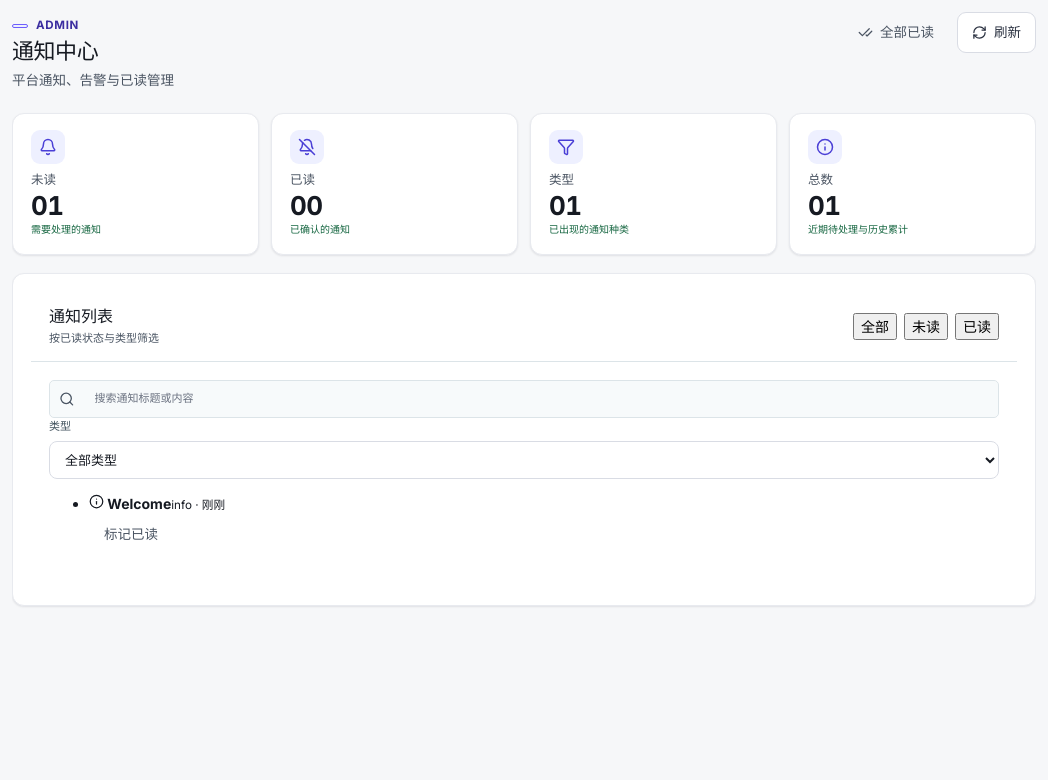
Test: AdminNotificationsPage › 标记单条已读失败时显示错误
The width and height of the screenshot is (1048, 780).
Click the button with test id "notifications-read-n-1". click: (131, 535)
box: [89, 514, 173, 555]
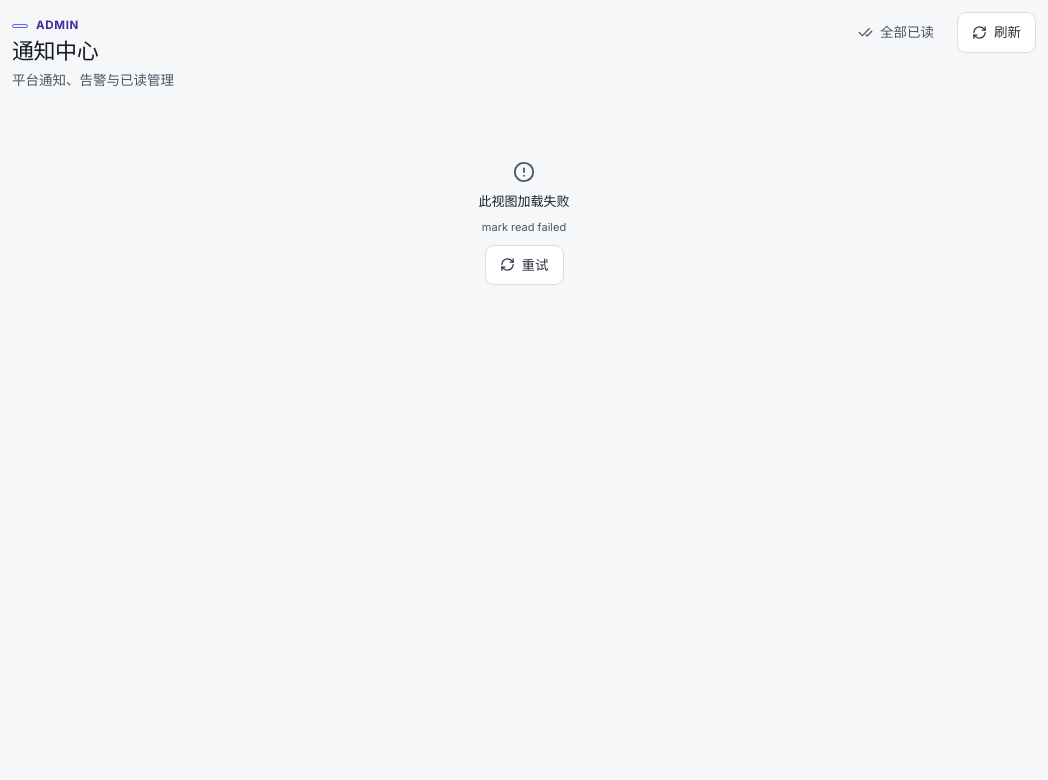
Expected: the text "mark read failed" is shown, [482, 220, 566, 236]
